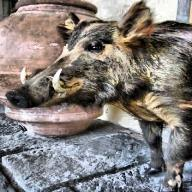boar: (6, 1, 192, 184)
